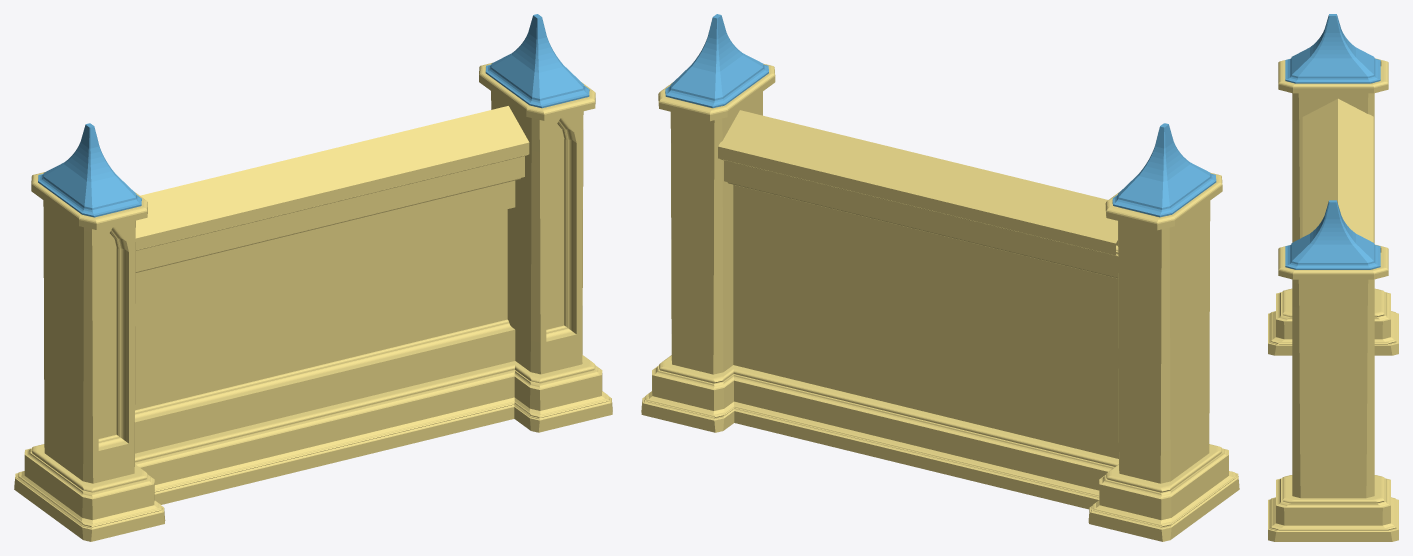
Rendered from weiqiang3.FBX.
3 renders of one model, left to right at view 1: azimuth 30°, elevation 25°; view 2: azimuth 150°, elevation 25°; view 3: azimuth 270°, elevation 25°, orthographic. The views are drawn at different scales.
Parts seen in each view (by area): view 1: 对象022, 对象023; view 2: 对象022, 对象023; view 3: 对象022, 对象023.
Boxes of the visible parts, x1,y1,x2,y2 form: 对象022: [14, 62, 612, 541]; 对象023: [38, 14, 589, 217]; 对象022: [641, 63, 1239, 541]; 对象023: [665, 14, 1216, 217]; 对象022: [1268, 58, 1398, 541]; 对象023: [1285, 14, 1380, 269].
Size of the model in its own units: 7.83 by 5.37 by 1.97.
